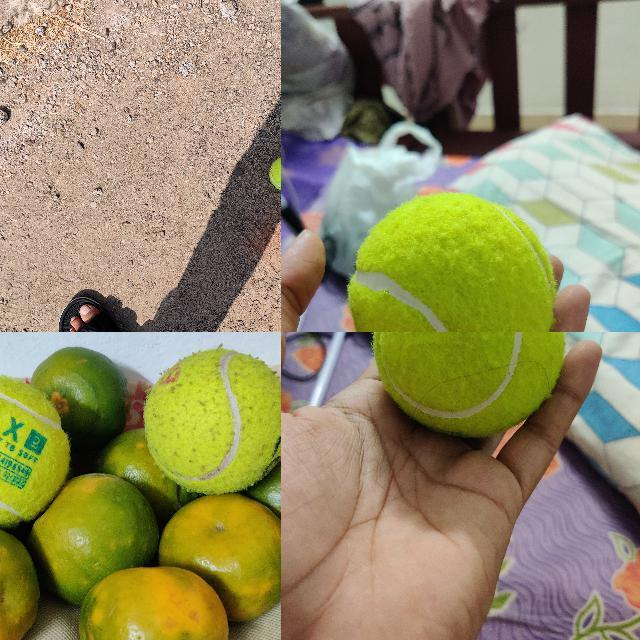tennis-ball: (347, 190, 557, 331), (372, 332, 565, 438), (142, 346, 280, 494), (0, 373, 38, 521), (269, 155, 280, 191)
